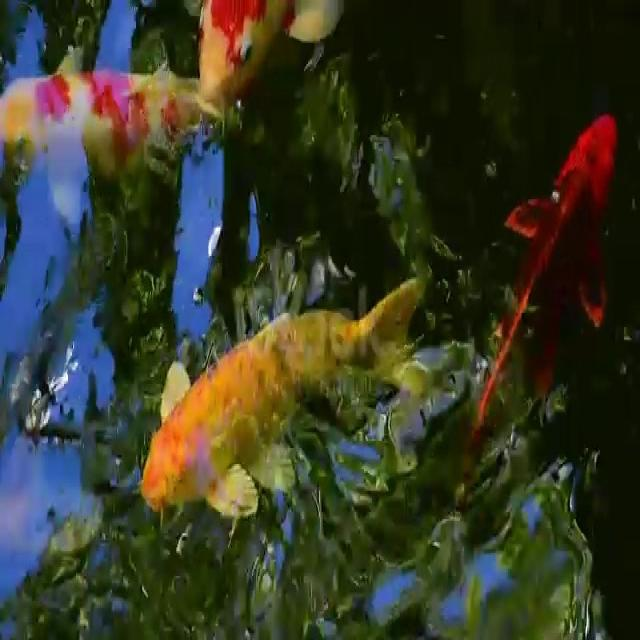fish: (133, 274, 448, 521), (472, 99, 628, 469), (0, 46, 230, 187), (183, 0, 349, 110)
